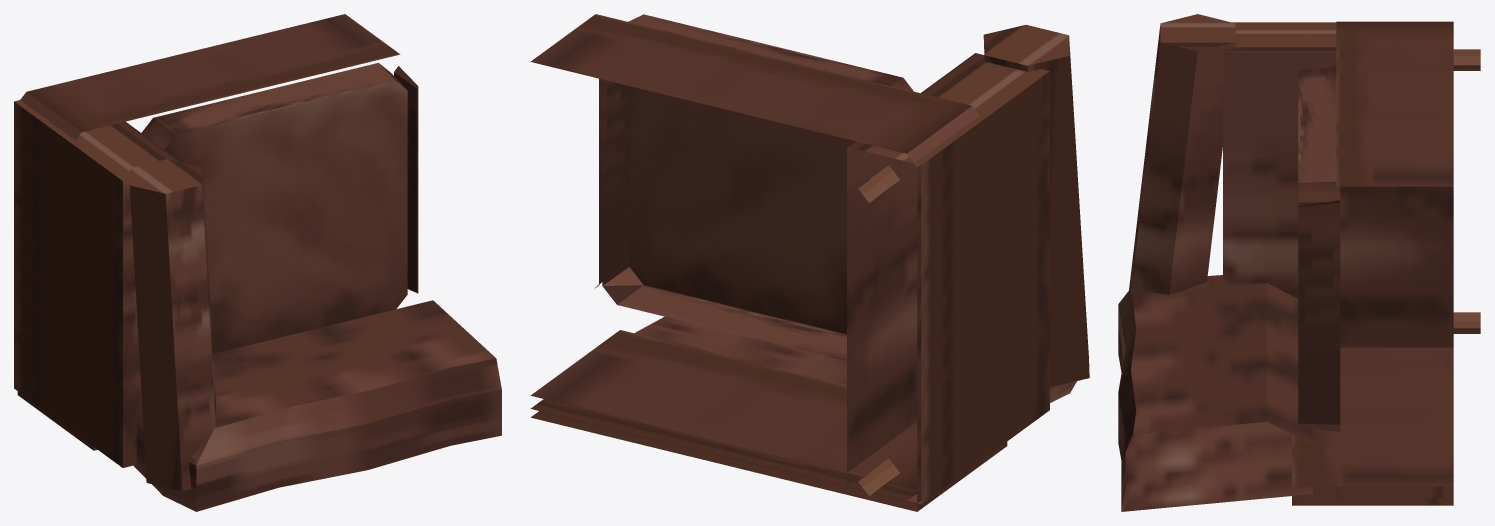
The model's file is pz_sofa_seating_indoor_03_victorian_c5_0_0_fidelity_r1.obj.
3 renders of one model, left to right at view 1: azimuth 30°, elevation 25°; view 2: azimuth 150°, elevation 25°; view 3: azimuth 270°, elevation 25°, orthographic. The views are drawn at different scales.
Parts seen in each view (by area): view 1: pz_sofa_seating_indoor_03_victorian_c5_0_0__seat_0__seat, pz_sofa_seating_indoor_03_victorian_c5_0_0__sculpted_back__back, pz_sofa_seating_indoor_03_victorian_c5_0_0__chester_side_-1__arm, pz_sofa_seating_indoor_03_victorian_c5_0_0__chester_roll_-1__arm, pz_sofa_seating_indoor_03_victorian_c5_0_0__lower_body__body, pz_sofa_seating_indoor_03_victorian_c5_0_0__seat_1__seat; view 2: pz_sofa_seating_indoor_03_victorian_c5_0_0__chester_side_-1__arm, pz_sofa_seating_indoor_03_victorian_c5_0_0__seat_0__seat, pz_sofa_seating_indoor_03_victorian_c5_0_0__lower_body__body, pz_sofa_seating_indoor_03_victorian_c5_0_0__rear_body_bridge__bo, pz_sofa_seating_indoor_03_victorian_c5_0_0__chester_roll_-1__arm, pz_sofa_seating_indoor_03_victorian_c5_0_0__sculpted_back__back, pz_sofa_seating_indoor_03_victorian_c5_0_0__seat_1__seat, pz_sofa_seating_indoor_03_victorian_c5_0_0__foot_-1_-1__frame, pz_sofa_seating_indoor_03_victorian_c5_0_0__foot_-1_1__frame; view 3: pz_sofa_seating_indoor_03_victorian_c5_0_0__chester_side_-1__arm, pz_sofa_seating_indoor_03_victorian_c5_0_0__sculpted_back__back, pz_sofa_seating_indoor_03_victorian_c5_0_0__lower_body__body, pz_sofa_seating_indoor_03_victorian_c5_0_0__chester_roll_-1__arm, pz_sofa_seating_indoor_03_victorian_c5_0_0__rear_body_bridge__bo, pz_sofa_seating_indoor_03_victorian_c5_0_0__seat_1__seat, pz_sofa_seating_indoor_03_victorian_c5_0_0__seat_0__seat, pz_sofa_seating_indoor_03_victorian_c5_0_0__foot_-1_-1__frame, pz_sofa_seating_indoor_03_victorian_c5_0_0__foot_-1_1__frame.
Part boxes in pixels (left/top/right/bottom): pz_sofa_seating_indoor_03_victorian_c5_0_0__seat_0__seat: left=141, top=63, right=407, bottom=353; pz_sofa_seating_indoor_03_victorian_c5_0_0__sculpted_back__back: left=133, top=300, right=501, bottom=511; pz_sofa_seating_indoor_03_victorian_c5_0_0__chester_side_-1__arm: left=14, top=100, right=180, bottom=467; pz_sofa_seating_indoor_03_victorian_c5_0_0__chester_roll_-1__arm: left=129, top=159, right=216, bottom=491; pz_sofa_seating_indoor_03_victorian_c5_0_0__lower_body__body: left=20, top=14, right=400, bottom=140; pz_sofa_seating_indoor_03_victorian_c5_0_0__seat_1__seat: left=394, top=66, right=418, bottom=293; pz_sofa_seating_indoor_03_victorian_c5_0_0__chester_side_-1__arm: left=847, top=53, right=1049, bottom=504; pz_sofa_seating_indoor_03_victorian_c5_0_0__seat_0__seat: left=602, top=14, right=913, bottom=360; pz_sofa_seating_indoor_03_victorian_c5_0_0__lower_body__body: left=530, top=14, right=979, bottom=500; pz_sofa_seating_indoor_03_victorian_c5_0_0__rear_body_bridge__bo: left=530, top=330, right=1007, bottom=511; pz_sofa_seating_indoor_03_victorian_c5_0_0__chester_roll_-1__arm: left=983, top=25, right=1089, bottom=387; pz_sofa_seating_indoor_03_victorian_c5_0_0__sculpted_back__back: left=634, top=285, right=1076, bottom=402; pz_sofa_seating_indoor_03_victorian_c5_0_0__seat_1__seat: left=594, top=78, right=602, bottom=288; pz_sofa_seating_indoor_03_victorian_c5_0_0__foot_-1_-1__frame: left=858, top=458, right=899, bottom=496; pz_sofa_seating_indoor_03_victorian_c5_0_0__foot_-1_1__frame: left=858, top=165, right=899, bottom=202; pz_sofa_seating_indoor_03_victorian_c5_0_0__chester_side_-1__arm: left=1223, top=22, right=1453, bottom=347; pz_sofa_seating_indoor_03_victorian_c5_0_0__sculpted_back__back: left=1118, top=275, right=1312, bottom=511; pz_sofa_seating_indoor_03_victorian_c5_0_0__lower_body__body: left=1336, top=21, right=1453, bottom=497; pz_sofa_seating_indoor_03_victorian_c5_0_0__chester_roll_-1__arm: left=1129, top=14, right=1235, bottom=294; pz_sofa_seating_indoor_03_victorian_c5_0_0__rear_body_bridge__bo: left=1292, top=347, right=1453, bottom=505; pz_sofa_seating_indoor_03_victorian_c5_0_0__seat_1__seat: left=1298, top=200, right=1340, bottom=432; pz_sofa_seating_indoor_03_victorian_c5_0_0__seat_0__seat: left=1298, top=65, right=1340, bottom=206; pz_sofa_seating_indoor_03_victorian_c5_0_0__foot_-1_-1__frame: left=1453, top=312, right=1480, bottom=333; pz_sofa_seating_indoor_03_victorian_c5_0_0__foot_-1_1__frame: left=1453, top=49, right=1480, bottom=70.
Bounding box in the file's own units: 0.9946 × 0.8689 × 0.8769.
Materials: 1 (1 with a texture image).
